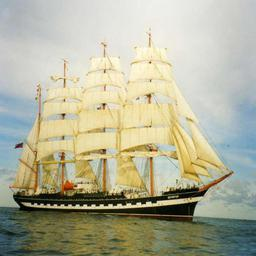Ship: (13, 50, 238, 223)
